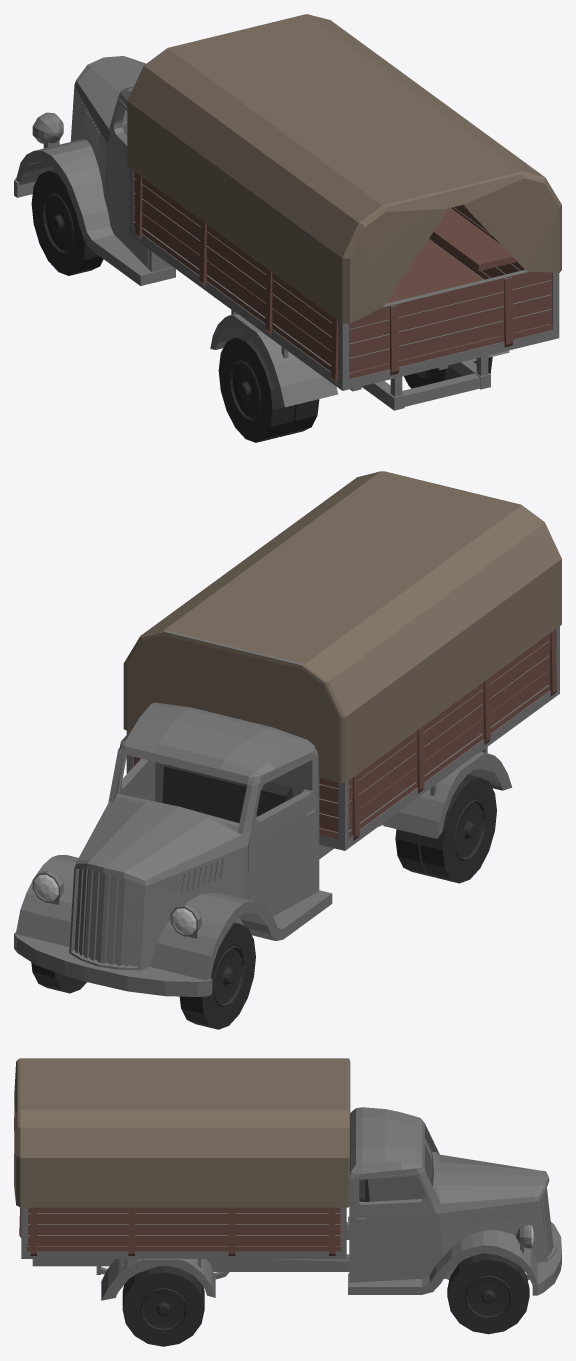
3 renders of one model, top to bottom at view 1: azimuth 30°, elevation 25°; view 2: azimuth 150°, elevation 25°; view 3: azimuth 270°, elevation 25°, orthographic. The views are drawn at different scales.
Parts seen in each view (by area): view 1: Cube.000, Cube.003, Cube.007, Cube.005, Cylinder.001, Cube.001; view 2: Cube.000, Cube.005, Cube.003, Cube.007, Cube.006, Cube.002; view 3: Cube.000, Cube.006, Cube.001, Cube.002, Cube.005.
Boxes of the visible parts, x1,y1,x2,y2 form: Cube.000: [14, 14, 561, 410]; Cube.003: [218, 334, 319, 442]; Cube.007: [31, 169, 103, 275]; Cube.005: [107, 98, 148, 267]; Cylinder.001: [32, 112, 63, 148]; Cube.001: [404, 357, 492, 388]; Cube.000: [14, 471, 561, 996]; Cube.005: [248, 756, 316, 916]; Cube.003: [395, 774, 496, 883]; Cube.007: [179, 922, 255, 1029]; Cube.006: [108, 748, 155, 802]; Cube.002: [31, 962, 86, 993]; Cube.000: [14, 1058, 561, 1300]; Cube.006: [354, 1173, 437, 1280]; Cube.001: [122, 1266, 204, 1346]; Cube.002: [447, 1253, 529, 1334]; Cube.005: [367, 1138, 431, 1201].
Bounding box in the file's own units: 350 × 431 × 962.
